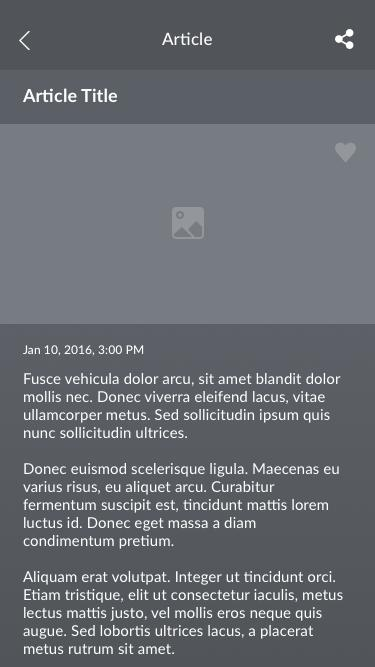Icon: (334, 142, 357, 163), (334, 29, 354, 50), (20, 31, 32, 51)
Image: (1, 125, 375, 324)
Text: (23, 463, 340, 549), (24, 571, 343, 655), (24, 372, 341, 439), (23, 89, 118, 103), (24, 345, 144, 355), (162, 33, 213, 46)
Toolbar: (1, 1, 375, 70)
